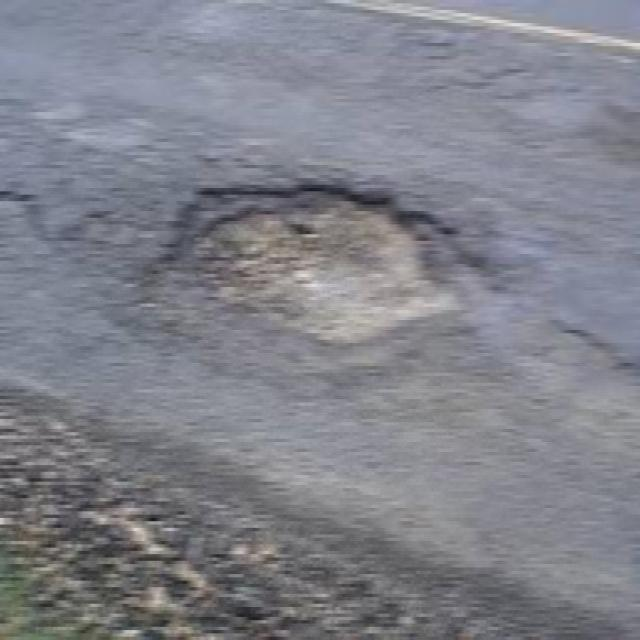Pothole: (144, 171, 486, 381)
